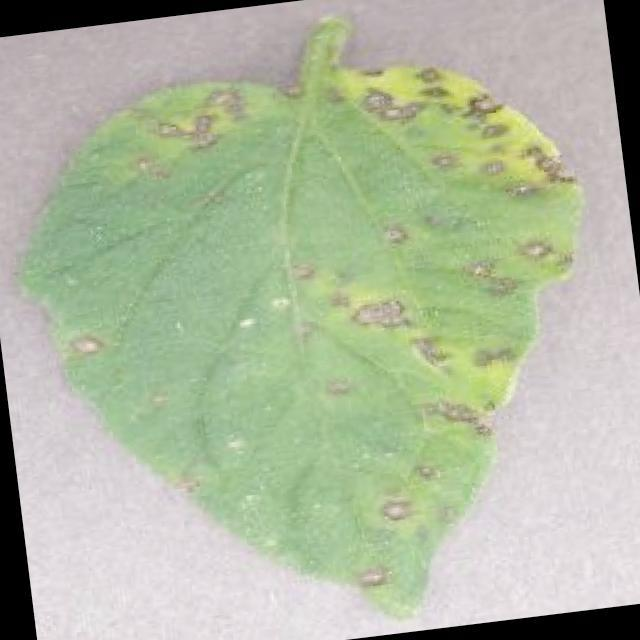Tomato Septoria spot leaf: (0, 39, 628, 640)
